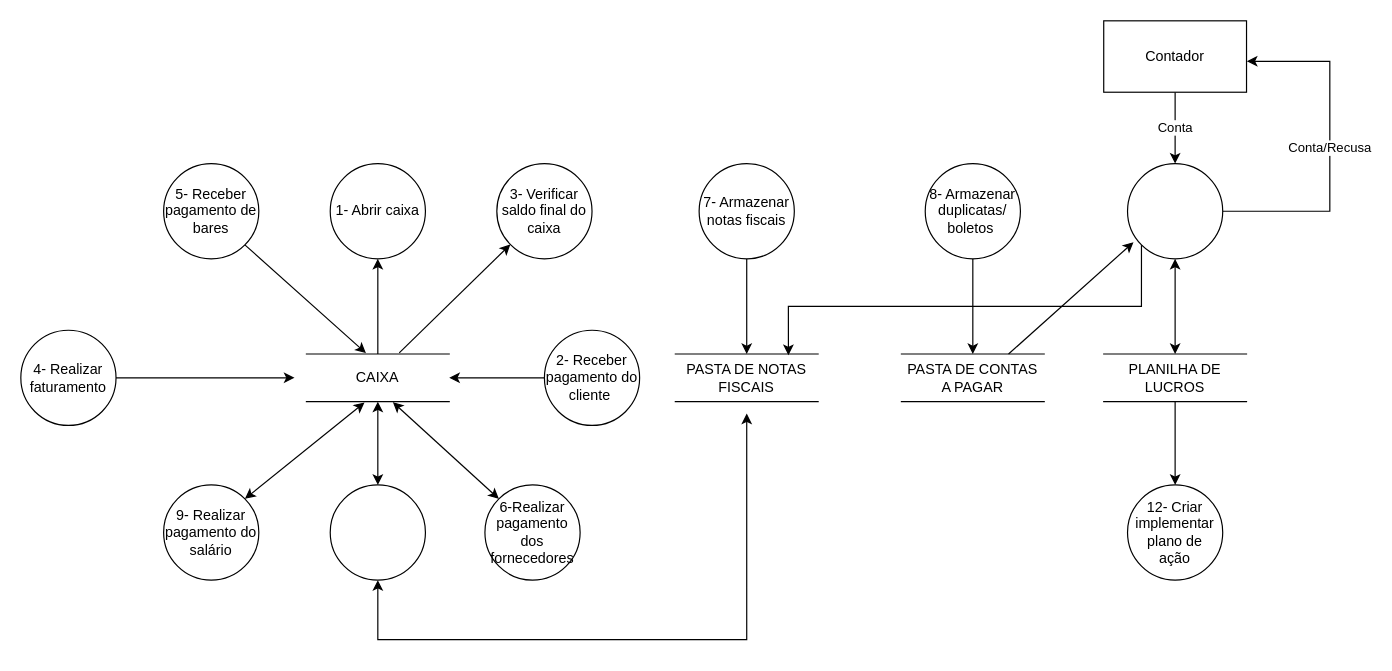
Some shapes in this 1392 by 671 pixel diagram are drawn without their labels. Here are the shapes that lost their labels. From the top down, the box of each, then its label:
(1126, 162, 1223, 259): 11- Efetuar cálculo
(329, 484, 425, 580): 10- Realizar pagamento de impostos
